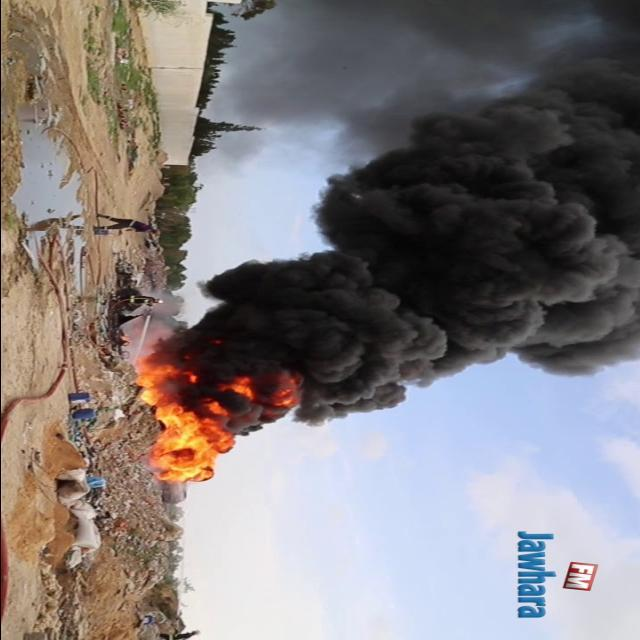Fire: (146, 354, 264, 482)
